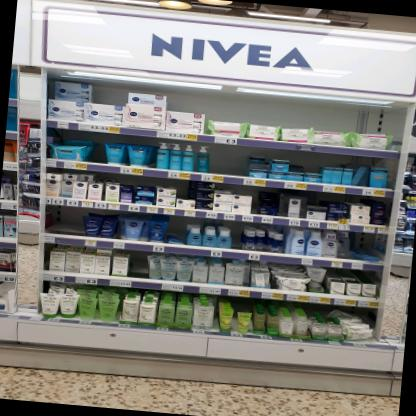empty_space: (210, 145, 251, 177), (53, 207, 89, 236), (130, 250, 150, 278), (92, 139, 109, 165), (230, 223, 245, 249), (250, 189, 263, 213)
